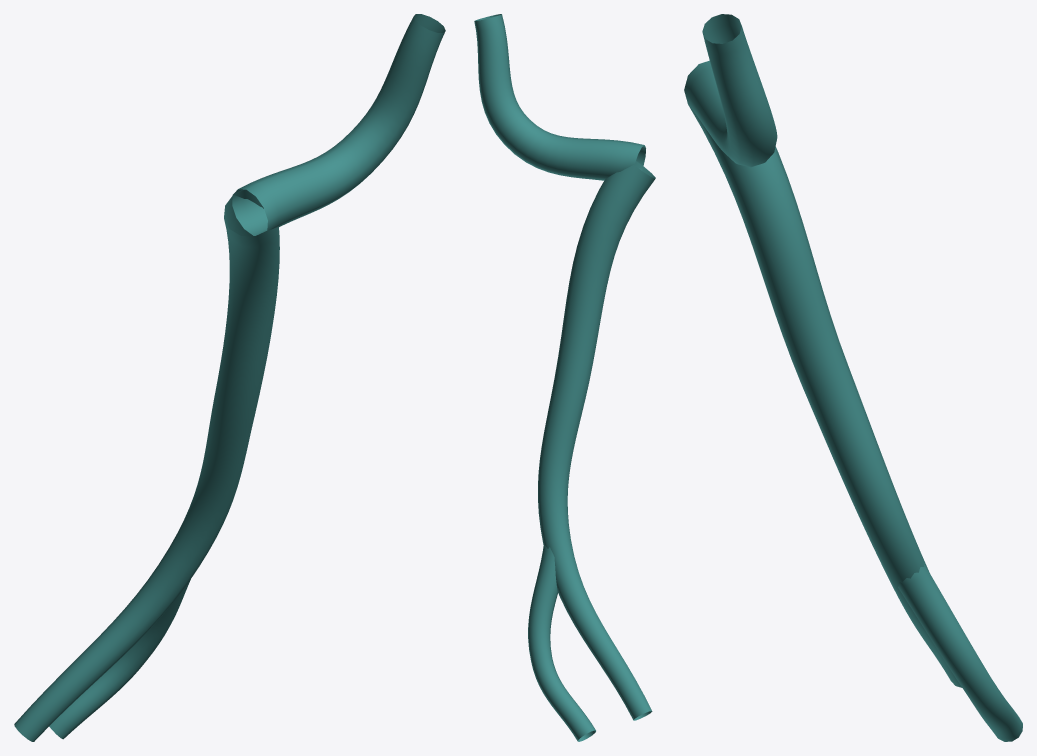
3 views of the same model, side by side, from view 1: azimuth 30°, elevation 25°; view 2: azimuth 150°, elevation 25°; view 3: azimuth 270°, elevation 25° (orthographic). The views are drawn at different scales.
Visible parts, largest first — view 1: 左肺上舌段支气管（第4段）; view 2: 左肺上舌段支气管（第4段）; view 3: 左肺上舌段支气管（第4段）.
Part boxes in pixels (<box>): 左肺上舌段支气管（第4段）: <box>14,14,445,741</box>; 左肺上舌段支气管（第4段）: <box>474,14,655,741</box>; 左肺上舌段支气管（第4段）: <box>684,14,1022,741</box>.
Bounding box in the file's own units: 0.0615 × 0.1377 × 0.0495.
